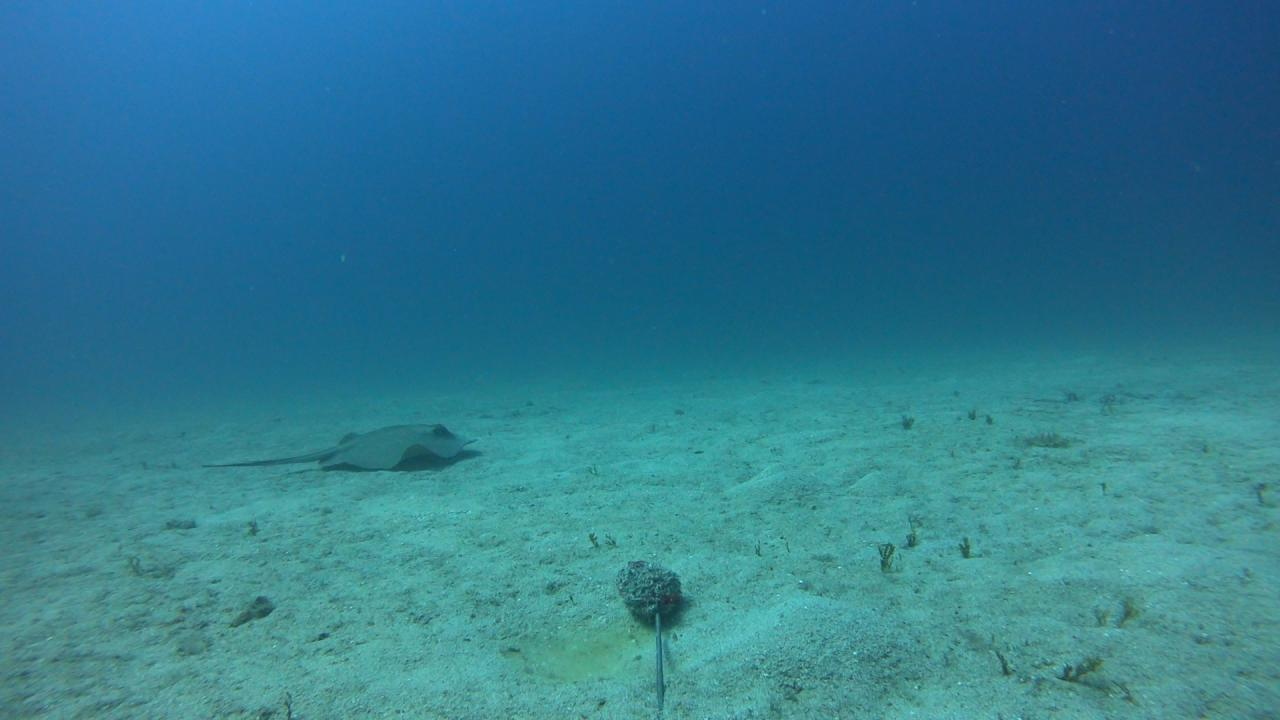dasyatis: (199, 421, 476, 471)
